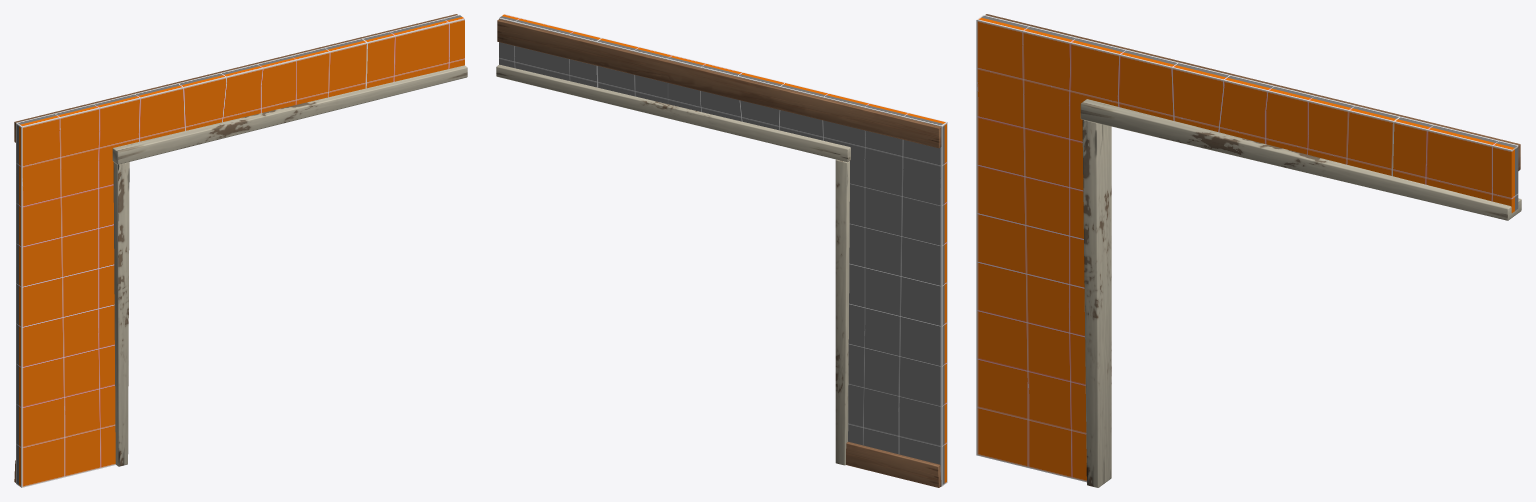
The model's file is Hangar01WD_5.FBX.
3 renders of one model, left to right at view 1: azimuth 30°, elevation 25°; view 2: azimuth 150°, elevation 25°; view 3: azimuth 330°, elevation 25°, orthographic. The views are drawn at different scales.
Parts seen in each view (by area): view 1: Hangar01WD_5; view 2: Hangar01WD_5; view 3: Hangar01WD_5.
Boxes of the visible parts, x1,y1,x2,y2 form: Hangar01WD_5: (14, 14, 467, 487); Hangar01WD_5: (496, 14, 947, 487); Hangar01WD_5: (976, 14, 1521, 487).
Size of what is drawn, in the model's own units: 4.5 by 3.5 by 0.2386.
